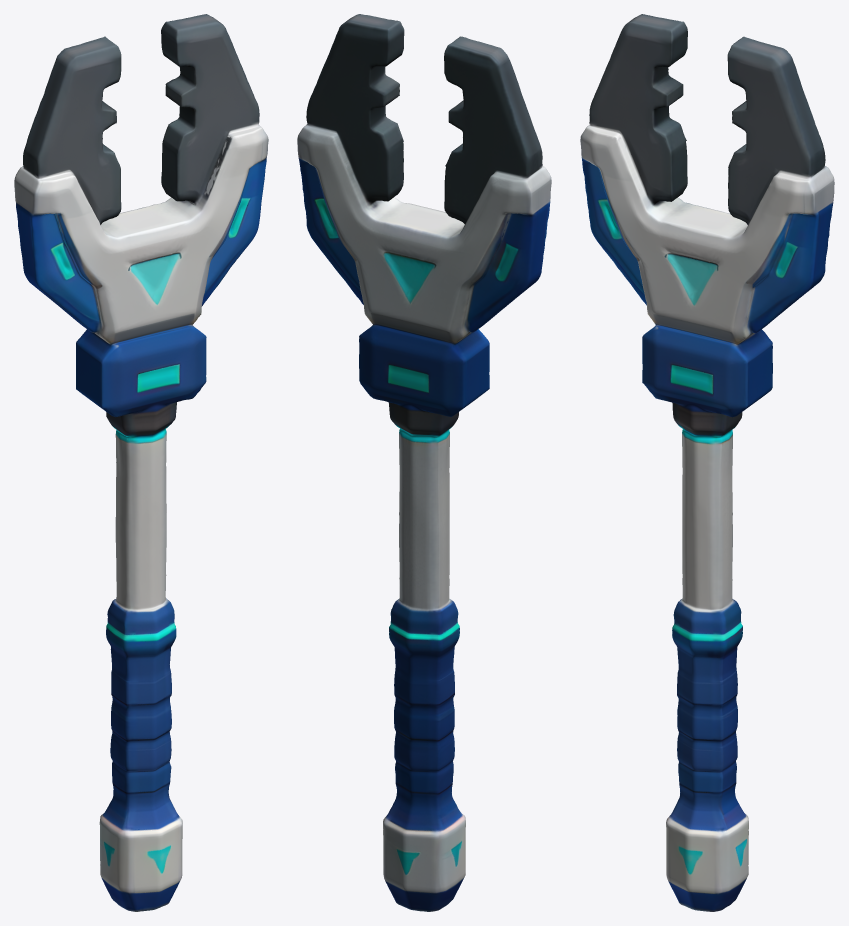
File: cable_tammer.fbx
3 views of the same model, side by side, from view 1: azimuth 30°, elevation 25°; view 2: azimuth 150°, elevation 25°; view 3: azimuth 330°, elevation 25° (orthographic).
Visible parts, largest first — view 1: model.005; view 2: model.005; view 3: model.005.
Boxes of the visible parts, box(x1,y1,x2,y2) form: model.005: box(14, 14, 268, 911); model.005: box(297, 14, 551, 911); model.005: box(580, 14, 834, 911).
Size of the model in its own units: 51.25 by 181 by 15.07.
1 material, 1 textured.
